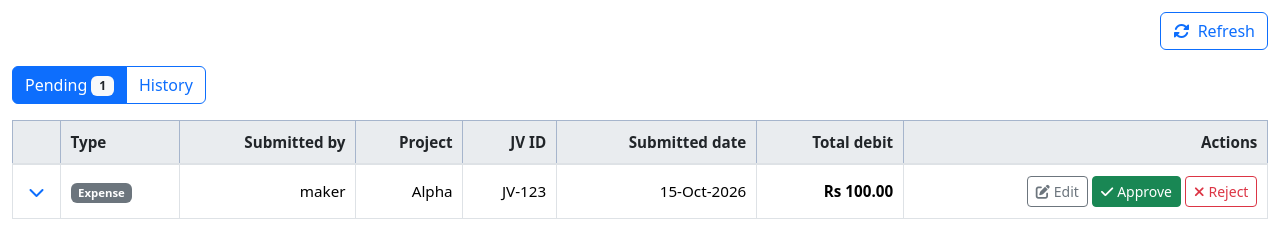
Test: PendingApprovals JV numbers › keeps the number of a rejected request visible in History
Check: the text "JV-123" is shown, box [463, 164, 556, 219]
Click the button "History".
click(166, 85)  # box [126, 66, 206, 104]
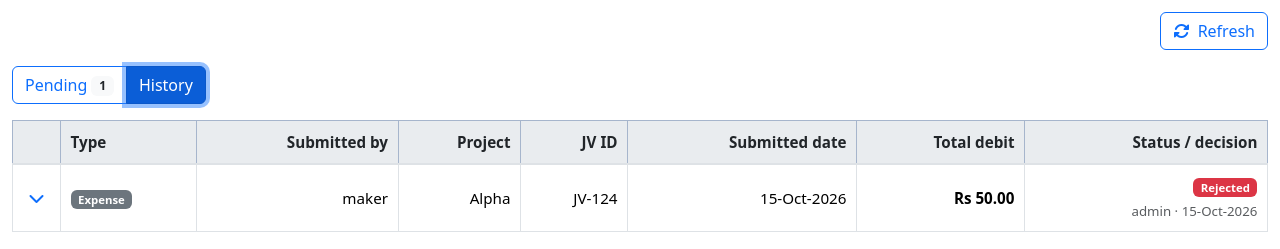
Check: the text "JV-124" is shown, box [521, 164, 628, 232]
Check: the text "Rejected" is shown, box [1193, 178, 1257, 197]
